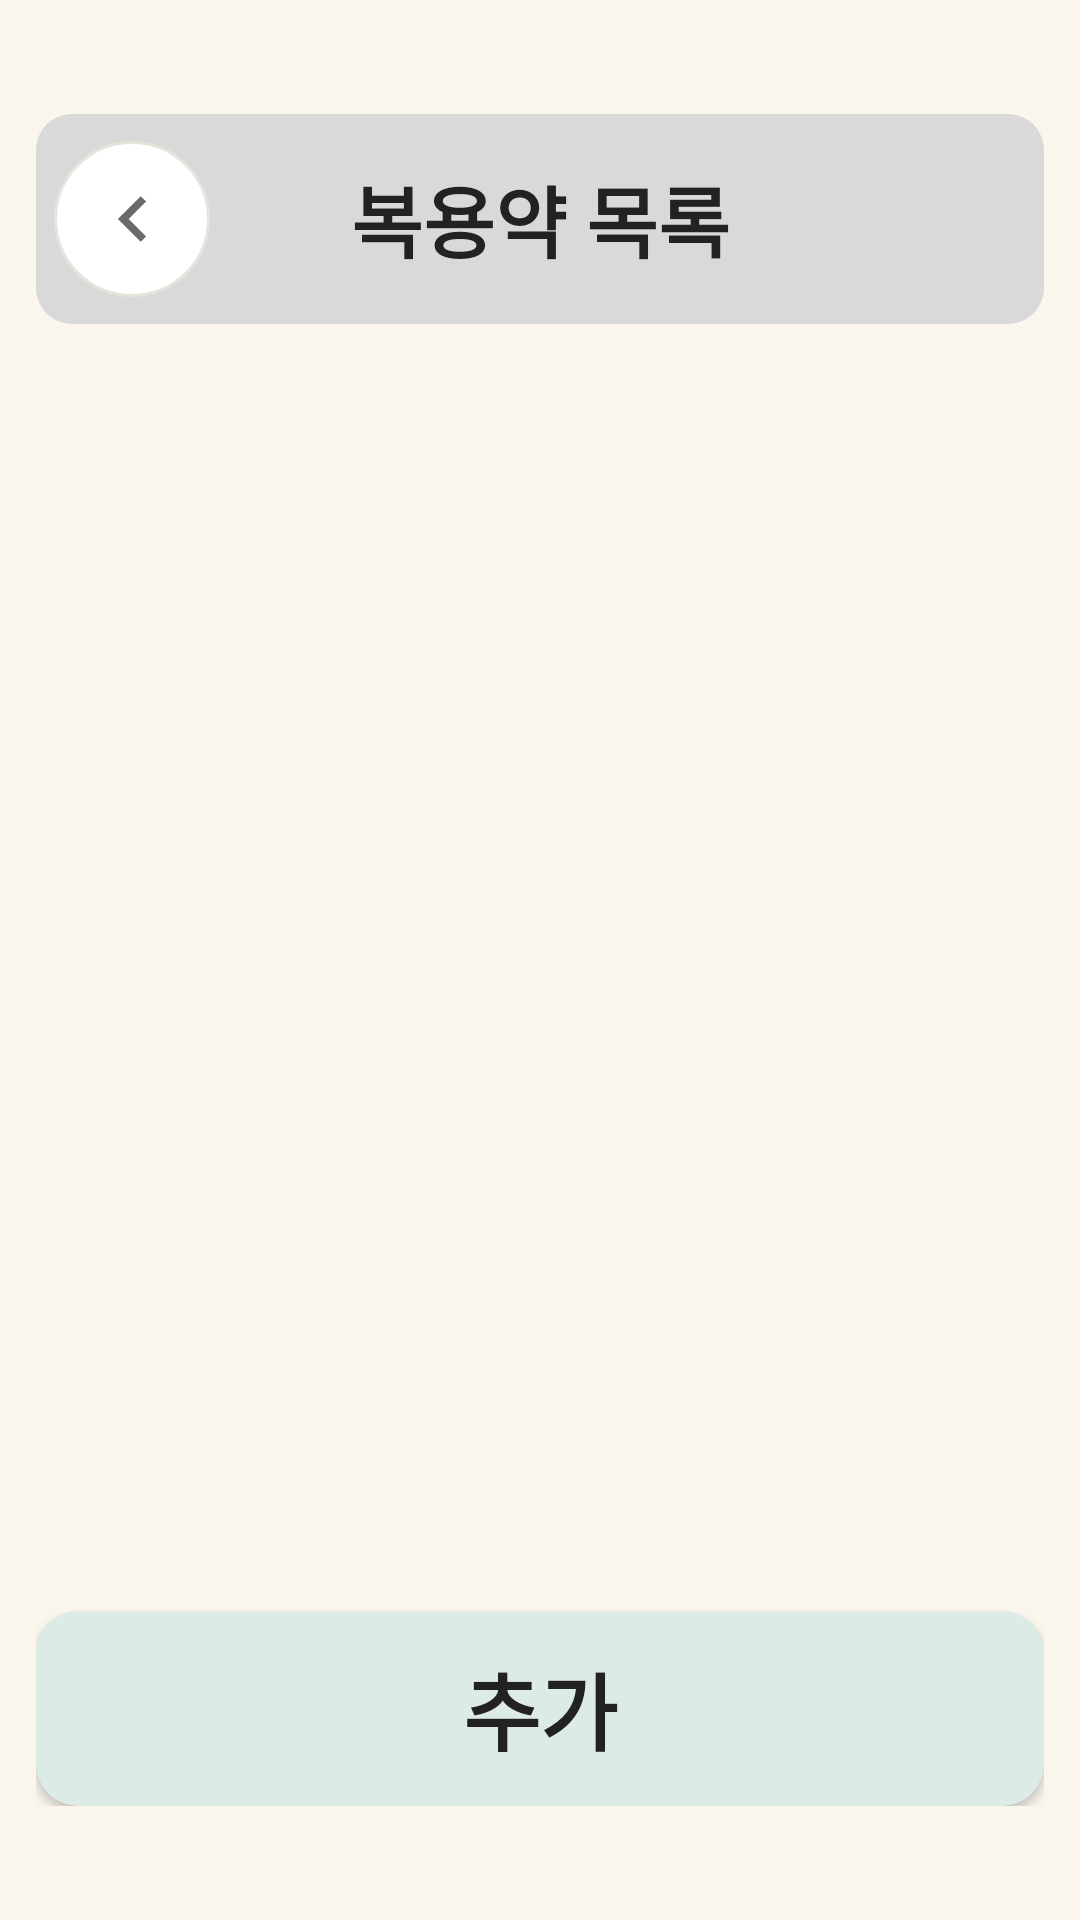

Named icons in this screenshot (1080×1920) and their bounding boxes, region(x1, y1, x2, y2):
뒤로가기: region(57, 144, 207, 294)
